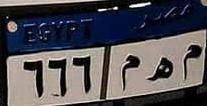6: (68, 53, 94, 94), (45, 55, 69, 97), (21, 60, 44, 99)
haa: (146, 54, 172, 85)
meem: (178, 39, 203, 85), (117, 52, 141, 91)
